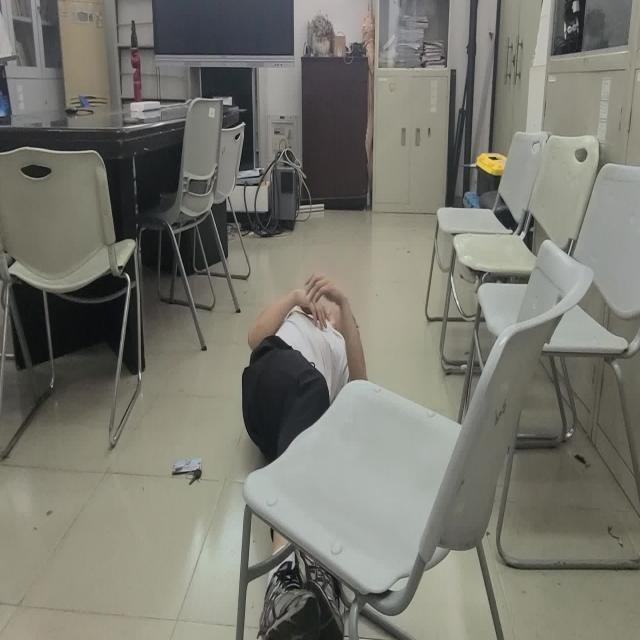fall: (241, 268, 367, 640)
